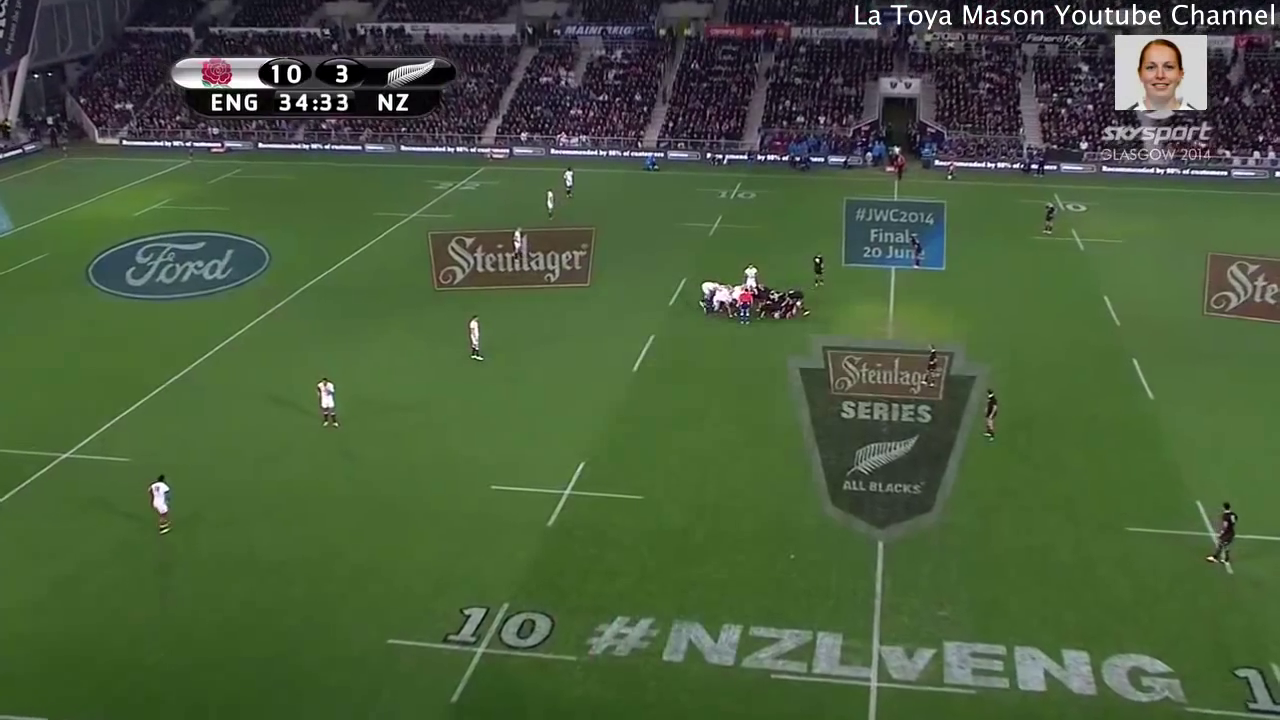10_metre: (377, 594, 582, 708), (479, 453, 651, 544), (1111, 488, 1280, 580), (1027, 218, 1139, 252), (671, 210, 761, 243), (1014, 190, 1109, 221), (690, 179, 778, 205)
player: (1201, 498, 1242, 576), (309, 369, 345, 438), (146, 468, 178, 538), (977, 381, 1002, 446), (461, 309, 489, 365), (918, 342, 945, 390), (903, 232, 931, 273), (808, 249, 830, 292), (784, 285, 811, 320), (694, 279, 722, 312), (735, 287, 756, 330), (1037, 196, 1057, 237), (556, 164, 577, 203), (506, 224, 525, 262), (710, 290, 738, 314), (541, 183, 557, 224), (758, 299, 786, 321), (742, 262, 760, 291)
scrum: (692, 276, 817, 331)
